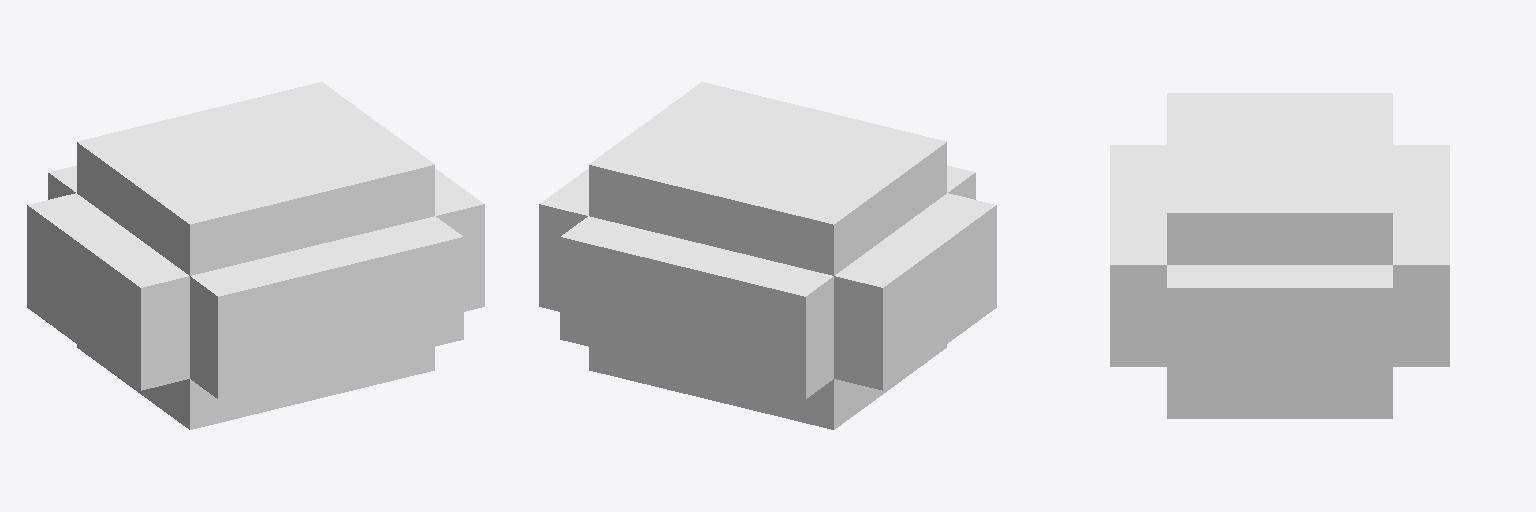
File: male-41.obj
3 renders of one model, left to right at view 1: azimuth 30°, elevation 25°; view 2: azimuth 150°, elevation 25°; view 3: azimuth 270°, elevation 25°, orthographic.
Visible parts, largest first — view 1: object 1; view 2: object 1; view 3: object 1.
Boxes of the visible parts, x1,y1,x2,y2 form: object 1: [27, 82, 484, 429]; object 1: [539, 82, 996, 429]; object 1: [1110, 93, 1449, 418].
Bounding box in the file's own units: 0.7 × 0.4 × 0.6.